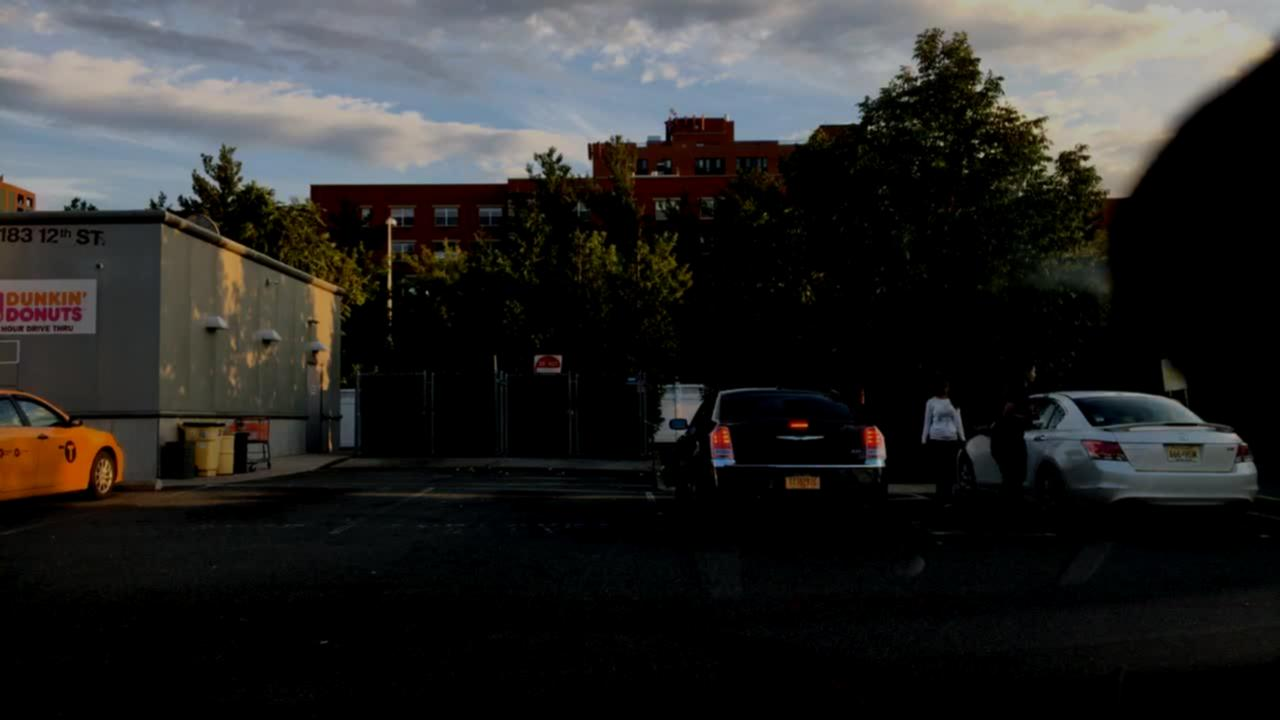Chrysler: (773, 430, 825, 447)
